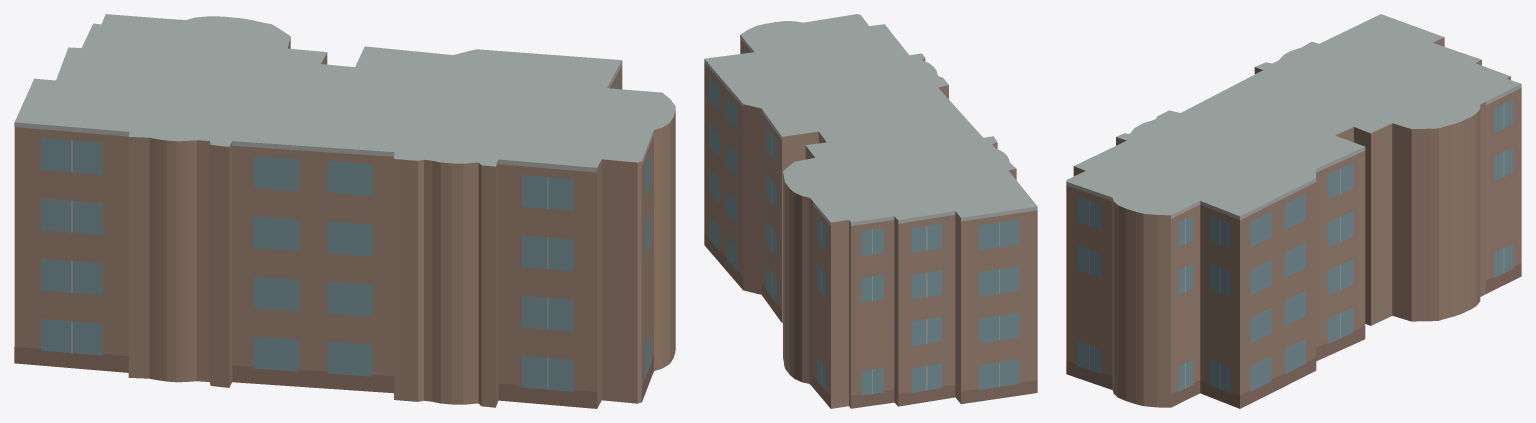
File: survey-upis-32916761.glb
The picture shows the model from 3 angles, left to right: view 1: azimuth 30°, elevation 25°; view 2: azimuth 150°, elevation 25°; view 3: azimuth 270°, elevation 25°; orthographic projection. The views are drawn at different scales.
Parts seen in each view (by area): view 1: survey-upis-32916761.tmp; view 2: survey-upis-32916761.tmp; view 3: survey-upis-32916761.tmp.
Boxes of the visible parts, x1,y1,x2,y2 form: survey-upis-32916761.tmp: [14, 14, 675, 408]; survey-upis-32916761.tmp: [704, 14, 1037, 408]; survey-upis-32916761.tmp: [1066, 14, 1521, 408].
Size of the model in its own units: 27.98 by 12.4 by 26.6.
